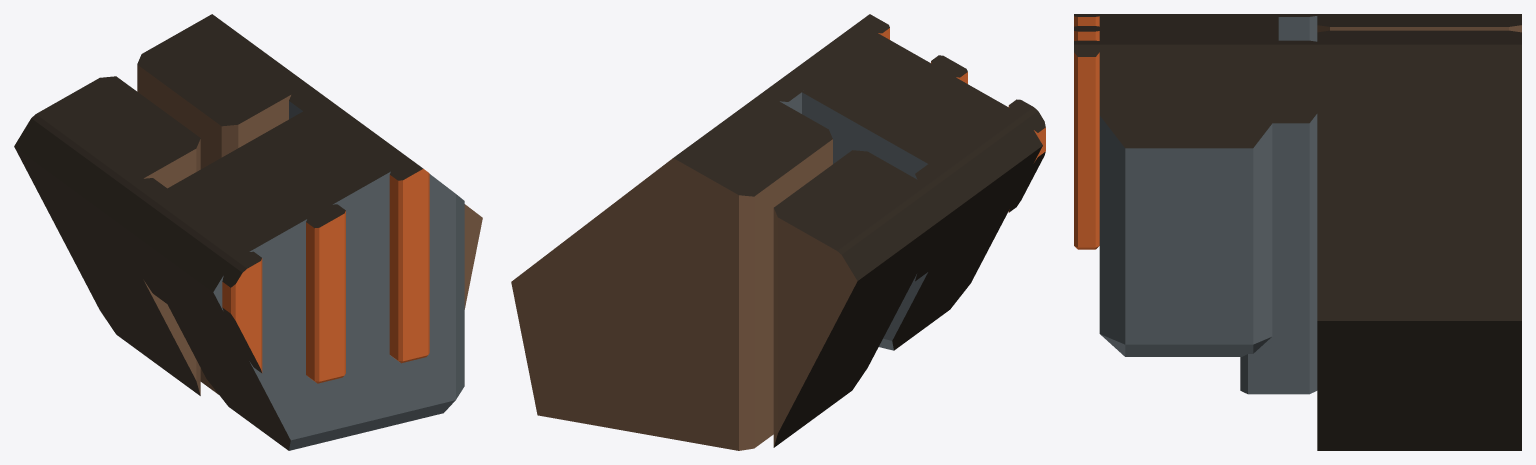
The model's file is SM_DoorShard_02_13.fbx.
The picture shows the model from 3 angles, left to right: view 1: azimuth 30°, elevation 25°; view 2: azimuth 150°, elevation 25°; view 3: azimuth 270°, elevation 25°; orthographic projection. The views are drawn at different scales.
Parts seen in each view (by area): view 1: SM_DoorShard_02_13; view 2: SM_DoorShard_02_13; view 3: SM_DoorShard_02_13.
Boxes of the visible parts, box(x1,y1,x2,y2) form: SM_DoorShard_02_13: box(14, 14, 482, 450); SM_DoorShard_02_13: box(511, 14, 1045, 450); SM_DoorShard_02_13: box(1074, 14, 1521, 450).
Size of the model in its own units: 35.6 by 35 by 28.52.
